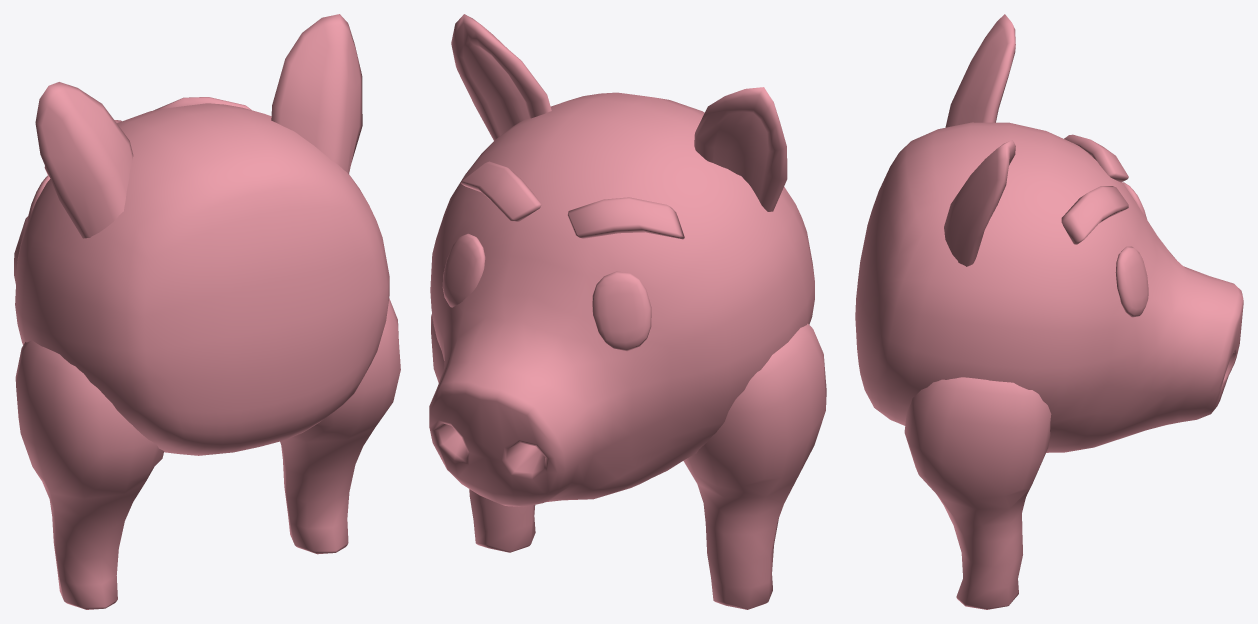
Rendered from B-Oink!_Char.fbx.
3 renders of one model, left to right at view 1: azimuth 30°, elevation 25°; view 2: azimuth 150°, elevation 25°; view 3: azimuth 270°, elevation 25°, orthographic. The views are drawn at different scales.
Visible parts, largest first — view 1: Head_LP, Leg_l_LP, Ears_LP, Leg_r_LP, Eyebrows_LP; view 2: Head_LP, Leg_l_LP, Ears_LP, Eyebrows_LP, Eyes_LP, Leg_r_LP; view 3: Head_LP, Leg_r_LP, Ears_LP, Eyebrows_LP, Eyes_LP.
Boxes of the visible parts, <box> form: Head_LP: <box>14,103,389,455</box>; Leg_l_LP: <box>15,340,164,609</box>; Ears_LP: <box>35,14,362,238</box>; Leg_r_LP: <box>280,298,400,554</box>; Eyebrows_LP: <box>44,97,251,176</box>; Head_LP: <box>429,92,814,506</box>; Leg_l_LP: <box>683,323,826,609</box>; Ears_LP: <box>451,14,787,211</box>; Eyebrows_LP: <box>461,161,684,239</box>; Eyes_LP: <box>442,233,651,351</box>; Leg_r_LP: <box>431,314,535,552</box>; Head_LP: <box>855,122,1243,452</box>; Leg_r_LP: <box>904,377,1051,609</box>; Ears_LP: <box>944,14,1015,266</box>; Eyebrows_LP: <box>1061,134,1128,244</box>; Eyes_LP: <box>1115,182,1148,317</box>.
Size of the model in its own units: 278 by 384 by 288.
